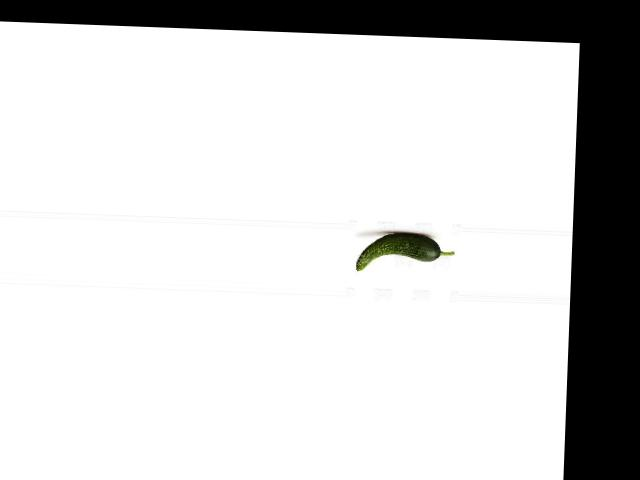cucumber: (356, 231, 455, 274)
